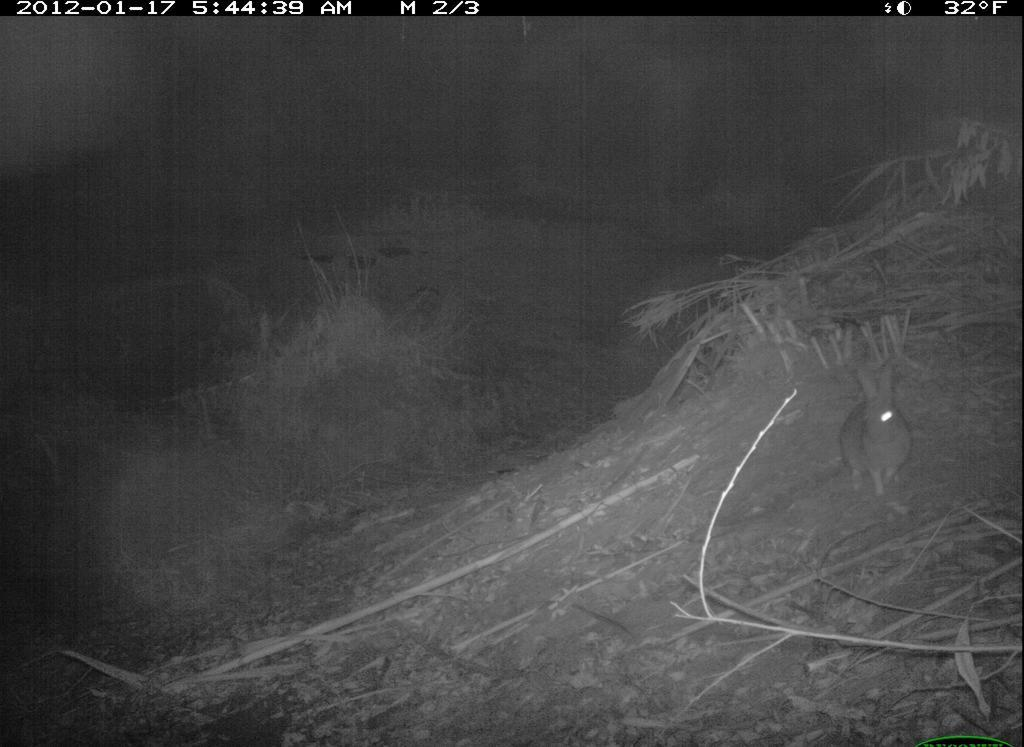rabbit: (827, 351, 935, 510)
